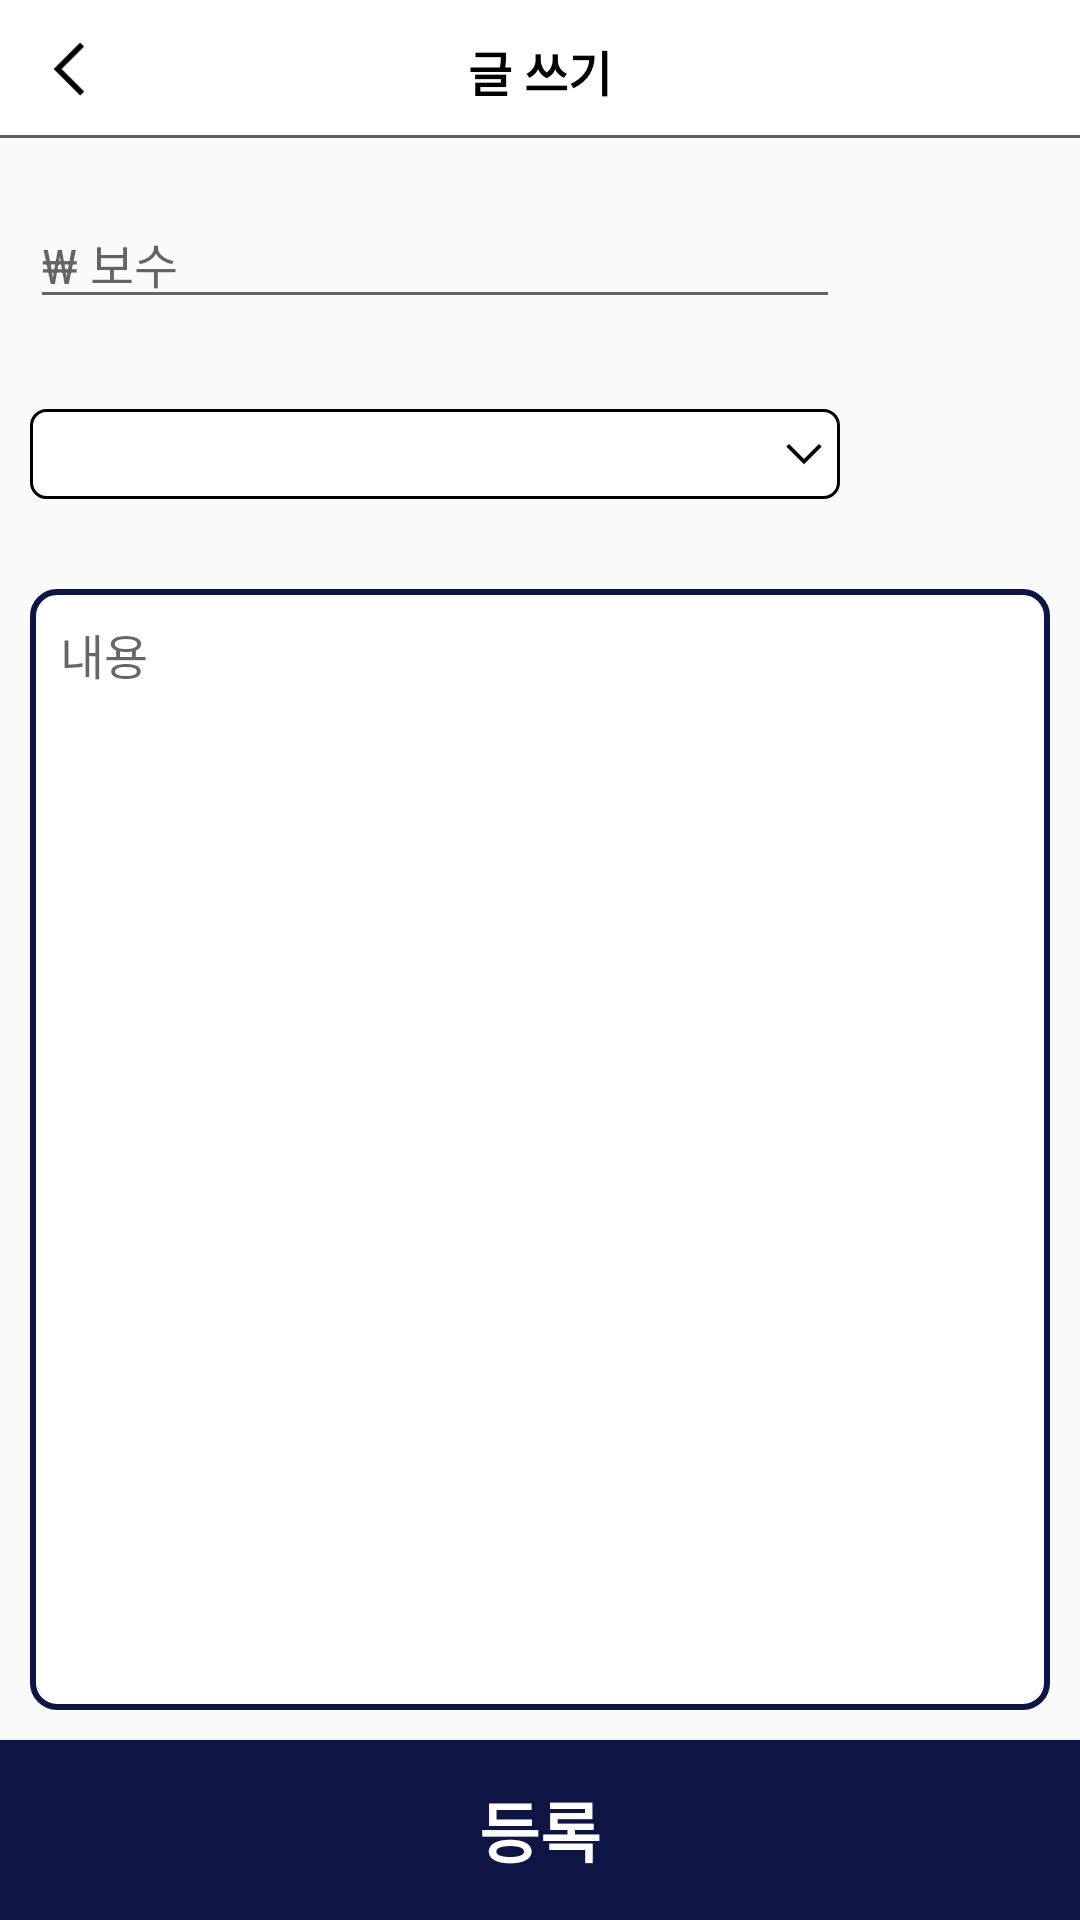

Icon click points for this 1080×1920 phone screenshot, format (x,y):
go to back: (69,69)
